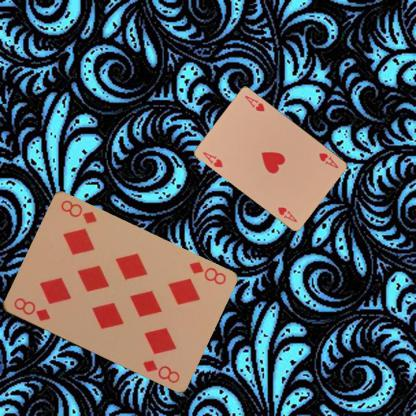8d: (10, 296, 52, 323), (186, 259, 227, 286)
Ah: (316, 150, 340, 170), (201, 149, 224, 169)
